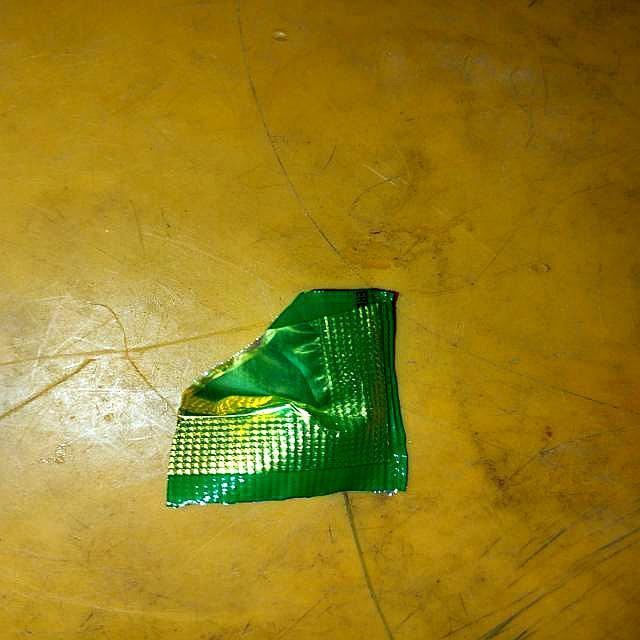Non-biodegradable: (164, 286, 410, 510)
